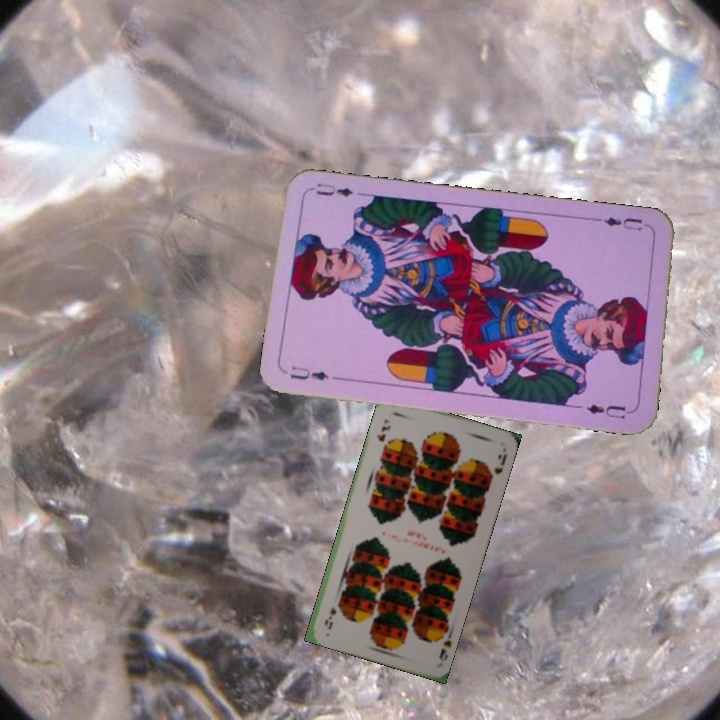EU: (599, 213, 652, 234), (286, 362, 331, 384)
S9: (433, 625, 455, 664), (373, 415, 393, 444)
